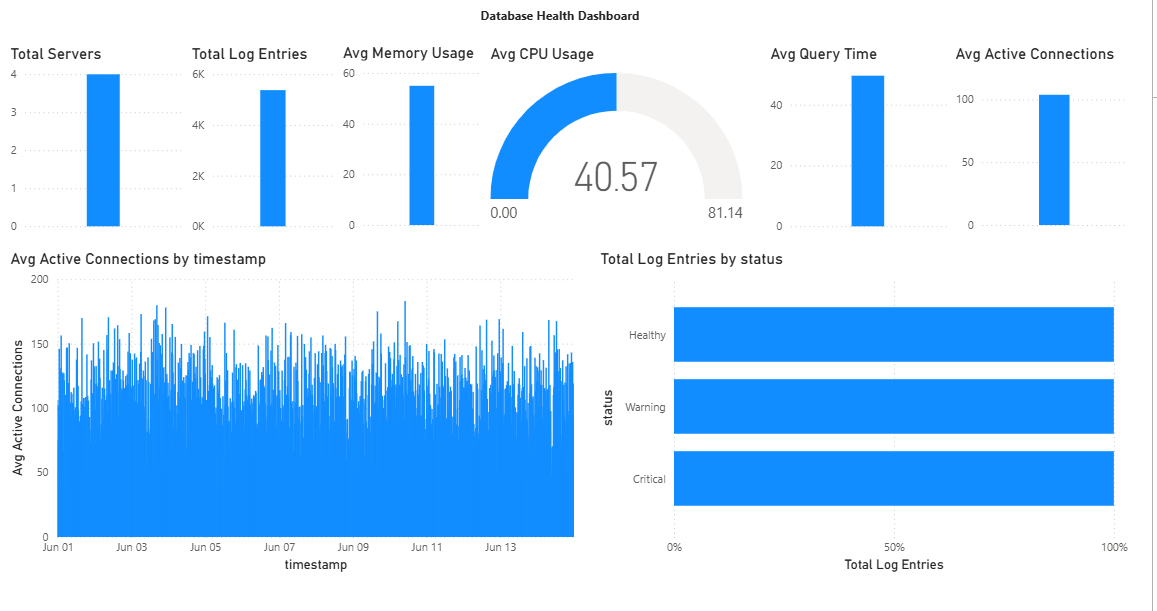

The dashboard page shown, as its layout file describes it:
{"tool":"powerbi","page":{"name":"Database Health","canvas":[1280,720],"ordinal":0},"visuals":[{"type":"clusteredColumnChart","fields":{"Y":["public db_logs.Total Servers"]},"box":[21.7,56.8,199,214.1],"z":0},{"type":"clusteredColumnChart","fields":{"Y":["public db_logs.Total Log Entries"]},"box":[220.7,56.8,166,214.1],"z":1},{"type":"clusteredColumnChart","fields":{"Y":["public db_logs.Avg Memory Usage"]},"box":[386.7,55.4,161.9,214.1],"z":3},{"type":"columnChart","fields":{"Y":["public db_logs.Avg Active Connections"]},"box":[1059.1,56.8,199,212.7],"z":4},{"type":"clusteredColumnChart","fields":{"Y":["public db_logs.Avg Query Time"]},"box":[856,56.8,203.1,214.1],"z":5},{"type":"gauge","fields":{"Y":["public db_logs.Avg CPU Usage"]},"box":[548.6,56.8,286.8,214.1],"z":6},{"type":"clusteredColumnChart","fields":{"Y":["public db_logs.Avg Active Connections"],"Category":["public db_logs.timestamp"]},"box":[21.7,281.9,647.7,359.5],"z":7},{"type":"hundredPercentStackedBarChart","fields":{"Category":["public db_logs.status"],"Y":["public db_logs.Total Log Entries"]},"box":[669.4,281.9,588.7,359.5],"z":8},{"type":"textbox","box":[537.9,11,203.1,32.9],"z":9}]}

Visuals, with their boxes on the page's 1280x720 design canvas (x1, y1, x2, y2). These are canvas units, not pixel positions in the 1157x611 screenshot, which may show the page scaled, cropped or inside an application window:
clusteredColumnChart - public db_logs.Total Servers: pyautogui.locateOnScreen(22, 57, 221, 271)
clusteredColumnChart - public db_logs.Total Log Entries: pyautogui.locateOnScreen(221, 57, 387, 271)
clusteredColumnChart - public db_logs.Avg Memory Usage: pyautogui.locateOnScreen(387, 55, 549, 270)
columnChart - public db_logs.Avg Active Connections: pyautogui.locateOnScreen(1059, 57, 1258, 270)
clusteredColumnChart - public db_logs.Avg Query Time: pyautogui.locateOnScreen(856, 57, 1059, 271)
gauge - public db_logs.Avg CPU Usage: pyautogui.locateOnScreen(549, 57, 835, 271)
clusteredColumnChart - public db_logs.Avg Active Connections x public db_logs.timestamp: pyautogui.locateOnScreen(22, 282, 669, 641)
hundredPercentStackedBarChart - public db_logs.status x public db_logs.Total Log Entries: pyautogui.locateOnScreen(669, 282, 1258, 641)
textbox: pyautogui.locateOnScreen(538, 11, 741, 44)
